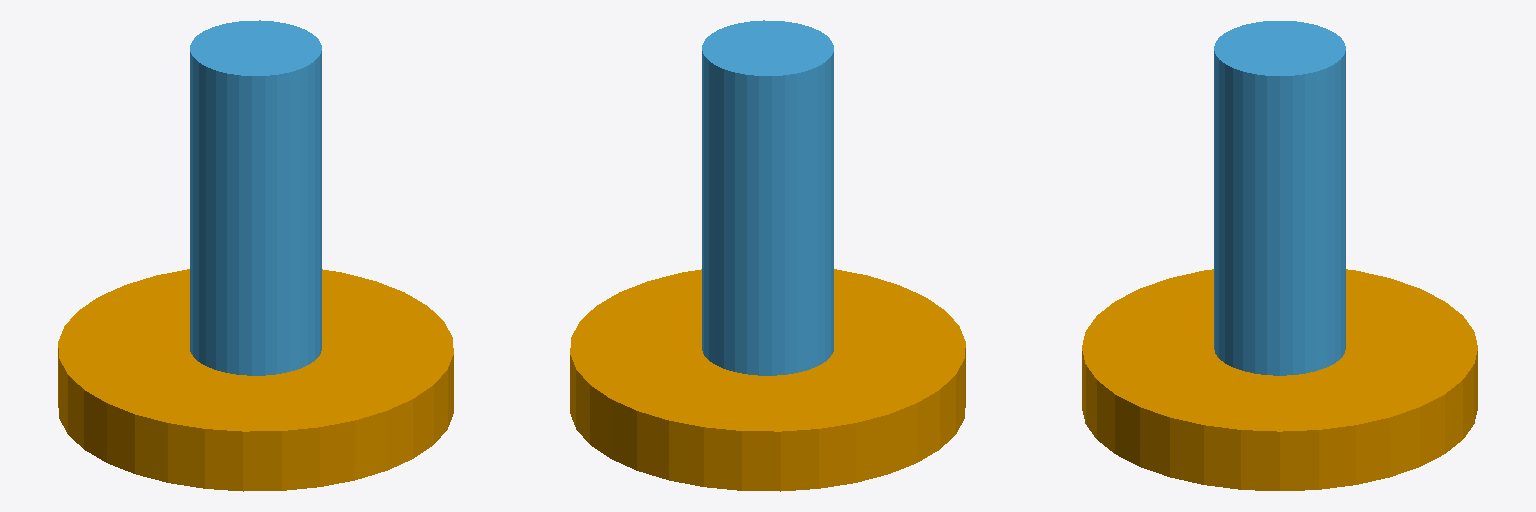
robot.urdf — test_robot:
<?xml version="1.0"?>
<!--
	mass	radius	height	Ixx		Iyy		Izz
link_1	76.341	0.300	0.100	1.7812830	1.7812830	3.4353316
link_2	42.412	0.100	0.500	0.9896017	0.9896017	0.2120575
link_3	24.429	0.080	0.450	0.4513262	0.4513262	0.0781729
link_4	13.741	0.060	0.450	0.2442521	0.2442521	0.0247344
link_5	4.072	0.040	0.300	0.0321649	0.0321649	0.0032572
link_6	1.018	0.020	0.300	0.0077359	0.0077359	0.0002036
link_7	0.170	0.020	0.050	0.0000523	0.0000523	0.0000339
-->

<robot name="test_robot">

  <link name="link_1">
    <inertial>
      <origin xyz="0 0 0" rpy="0 0 0"/>
      <mass value="76.34"/>
      <inertia ixx="1.7812830" ixy="0" ixz="0" iyy="1.7812830" iyz="0" izz="3.4353316"/>
    </inertial>
    <visual>
      <origin xyz="0 0 0" rpy="0 0 0"/>
      <geometry>
        <cylinder radius="0.3" length="0.1"/>
      </geometry>
    </visual>
  </link>

  <link name="link_2">
    <inertial>
      <origin xyz="0 0 0" rpy="0 0 0"/>
      <mass value="42.412"/>
      <inertia ixx="0.9896017" ixy="0" ixz="0" iyy="0.9896017" iyz="0" izz="0.2120575"/>
    </inertial>
    <visual>
      <origin xyz="0 0 0.3" rpy="0 0 0"/>
      <geometry>
        <cylinder radius="0.1" length="0.5"/>
      </geometry>
    </visual>
  </link>

  <link name="link_3">
    <inertial>
      <origin xyz="0 0 0" rpy="0 0 0"/>
      <mass value="42.412"/>
      <inertia ixx="0.9896017" ixy="0" ixz="0" iyy="0.9896017" iyz="0" izz="0.2120575"/>
    </inertial>
  </link>

  <link name="link_4" />

  <link name="link_5" />

  <link name="link_6" />

  <link name="link_7" />

  <joint name="joint_1" type="revolute">
    <parent link="link_1"/>
    <child link="link_2"/>
    <limit effort="100" velocity="100" lower="-100" upper="100" />
  </joint>

  <joint name="joint_2" type="revolute">
    <parent link="link_2"/>
    <child link="link_3"/>
    <limit effort="100" velocity="100" lower="-100" upper="100" />
  </joint>

  <joint name="joint_3" type="revolute">
    <parent link="link_3"/>
    <child link="link_4"/>
    <limit effort="100" velocity="100" lower="-100" upper="100" />
  </joint>

  <joint name="joint_4" type="revolute">
    <parent link="link_4"/>
    <child link="link_5"/>
    <limit effort="100" velocity="100" lower="-100" upper="100" />
  </joint>

  <joint name="joint_5" type="revolute">
    <parent link="link_5"/>
    <child link="link_6"/>
    <limit effort="100" velocity="100" lower="-100" upper="100" />
  </joint>

  <joint name="joint_6" type="revolute">
    <parent link="link_6"/>
    <child link="link_7"/>
    <limit effort="100" velocity="100" lower="-100" upper="100" />
  </joint>

</robot>

--- Facts derived from the render (not from the file) ---
Views: 3 orthographic renders of the robot side by side, from view 1: azimuth 30°, elevation 25°; view 2: azimuth 150°, elevation 25°; view 3: azimuth 270°, elevation 25°.
Model test_robot with 7 links and 6 joints (6 revolute), rooted at link_1, posed every joint at zero.
Links seen in each view (by area): view 1: link_1, link_2; view 2: link_1, link_2; view 3: link_1, link_2.
Boxes of the visible links, bbox=[...] form: link_1: bbox=[58, 269, 453, 491]; link_2: bbox=[190, 20, 321, 375]; link_1: bbox=[570, 269, 965, 491]; link_2: bbox=[702, 20, 833, 375]; link_1: bbox=[1082, 269, 1477, 490]; link_2: bbox=[1214, 21, 1345, 375].
Size in the robot's own frame: 0.6 by 0.6 by 0.6 metres.
Geometry: primitives only (box / cylinder / sphere), no mesh files.